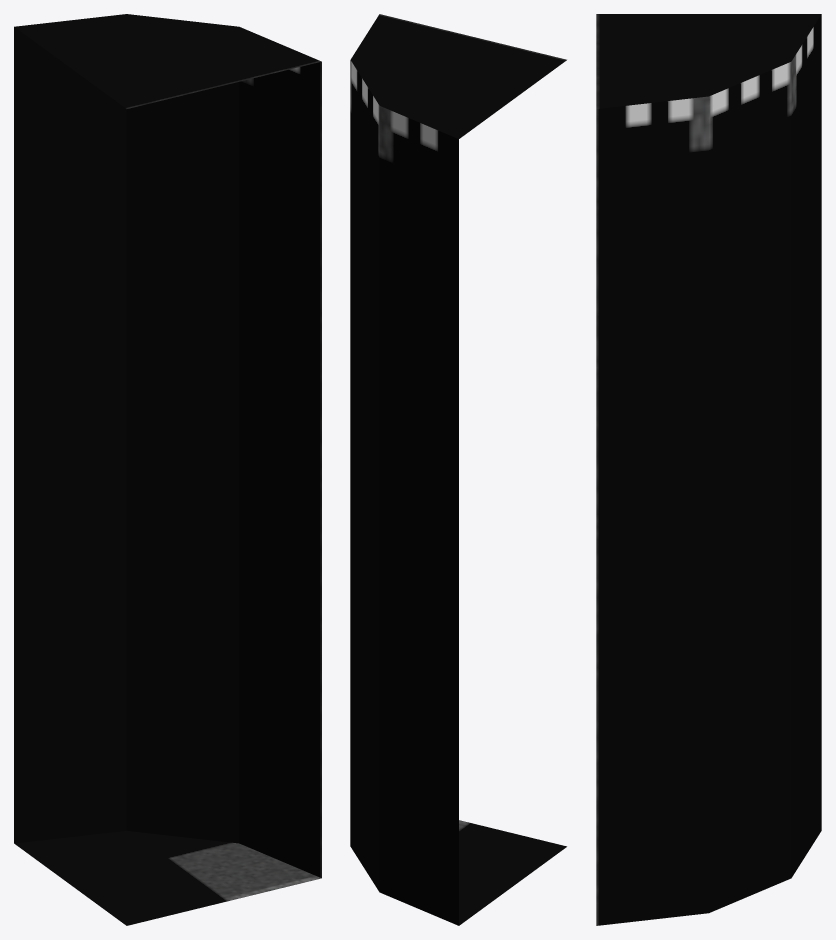
The model's file is tower_cylinder_01_trunk_corner.obj.
The picture shows the model from 3 angles, left to right: view 1: azimuth 30°, elevation 25°; view 2: azimuth 150°, elevation 25°; view 3: azimuth 270°, elevation 25°; orthographic projection. The views are drawn at different scales.
Visible parts, largest first — view 1: tower_cylinder_01_trunk_corner; view 2: tower_cylinder_01_trunk_corner; view 3: tower_cylinder_01_trunk_corner.
Boxes of the visible parts, x1=… form: tower_cylinder_01_trunk_corner: x1=14, y1=14, x2=321, y2=925; tower_cylinder_01_trunk_corner: x1=350, y1=14, x2=566, y2=925; tower_cylinder_01_trunk_corner: x1=596, y1=14, x2=821, y2=925.
Size of the model in its own units: 1 by 4 by 1.
1 material, 1 textured.
